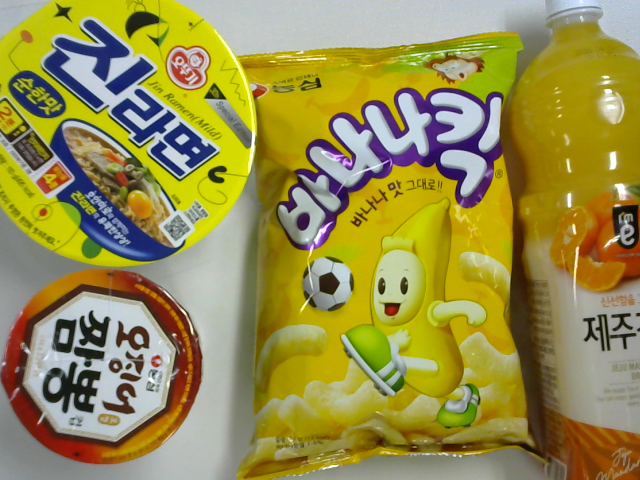Banana_Kick: (231, 36, 541, 480)
Jeju_Tangerine_1.5L: (507, 1, 638, 480)
Jinlamyeon_Mild_Taste_Large_Cup: (3, 4, 251, 270)
Ojjam: (3, 266, 203, 464)
